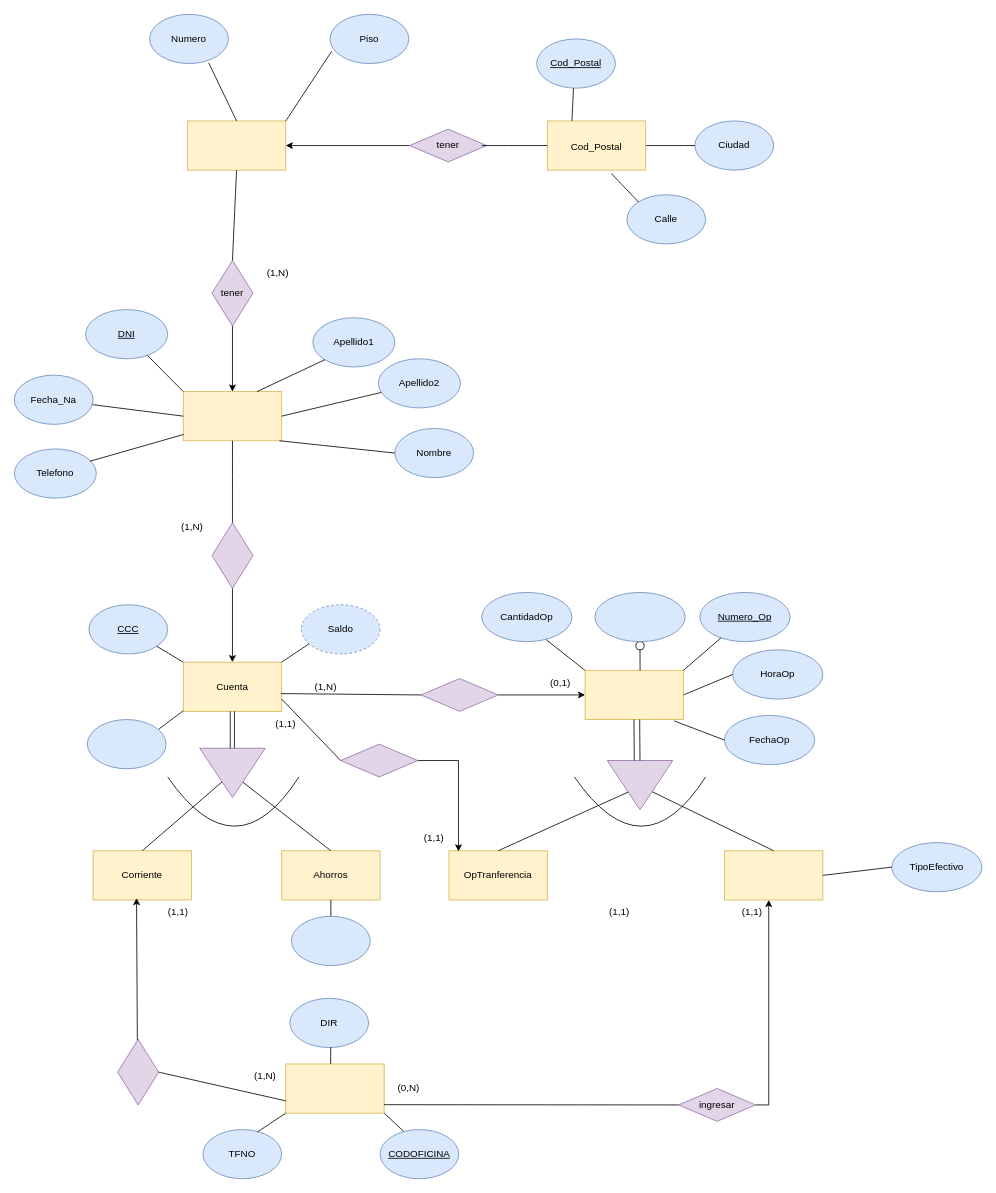
Image size: 996x1193. Some labels were removed from this diagram. Each missing label, with the box of its shape:
DescripcionOP: (594, 592, 685, 642)
Direccion: (187, 120, 286, 170)
Fecha_Creacion: (87, 719, 166, 769)
Interés: (291, 916, 370, 966)
ligada: (117, 1039, 159, 1105)
OpEfectivo: (724, 850, 823, 900)
Operacion: (584, 670, 683, 720)
posee: (211, 522, 253, 588)
realizar: (420, 678, 498, 711)
Sucursal: (285, 1063, 384, 1113)
Titular: (182, 391, 282, 441)
transferir: (340, 743, 418, 777)
